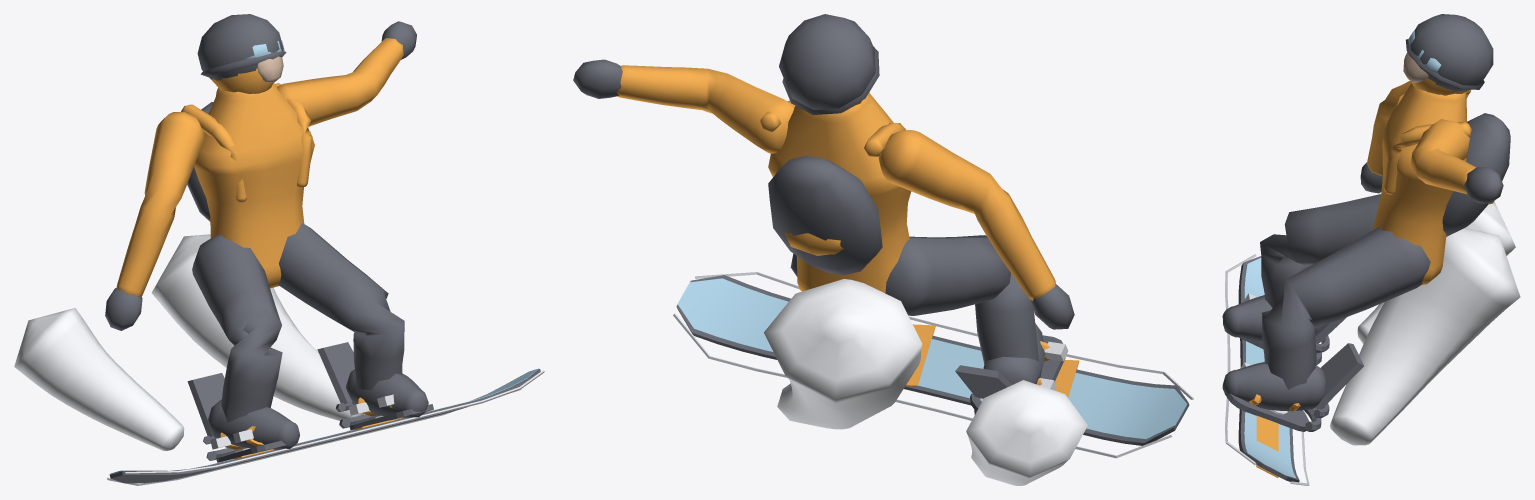
Rendered from backcountry-snowboarding-and-avalanche-safety-rider-ca-5ab3a492__18916.glb.
3 views of the same model, side by side, from view 1: azimuth 30°, elevation 25°; view 2: azimuth 150°, elevation 25°; view 3: azimuth 270°, elevation 25° (orthographic). The views are drawn at different scales.
Visible parts, largest first — view 1: rider-carving-heelside; view 2: rider-carving-heelside; view 3: rider-carving-heelside.
Part boxes in pixels (x1,y1,x2,y2): rider-carving-heelside: (14,14,544,485); rider-carving-heelside: (573,14,1193,485); rider-carving-heelside: (1222,14,1520,485).
Size of the model in its own units: 1.56 by 1.36 by 0.9258.
